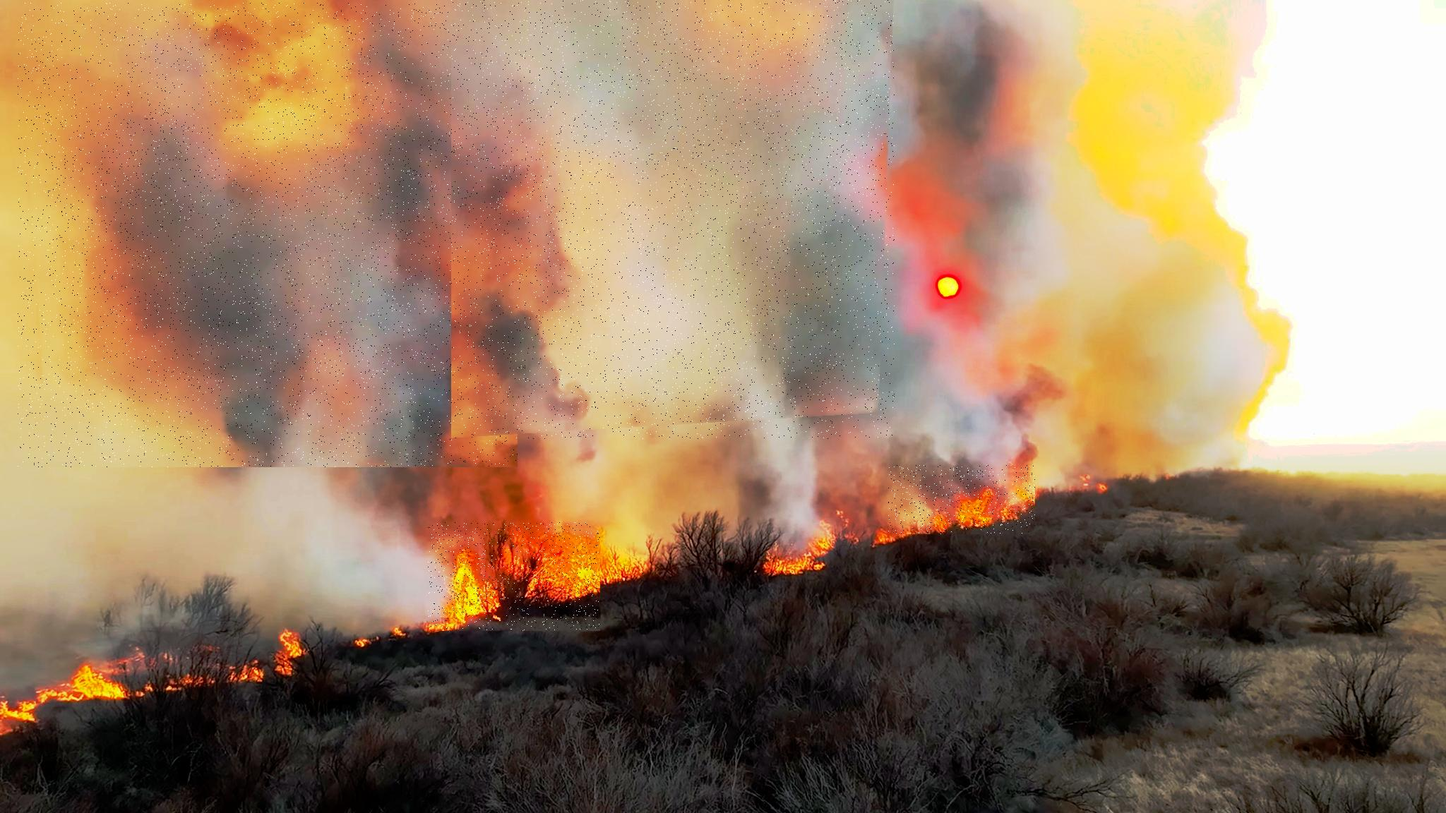fire: (428, 522, 600, 631), (888, 465, 1035, 534)
smoke: (18, 3, 518, 467), (451, 0, 895, 439)
